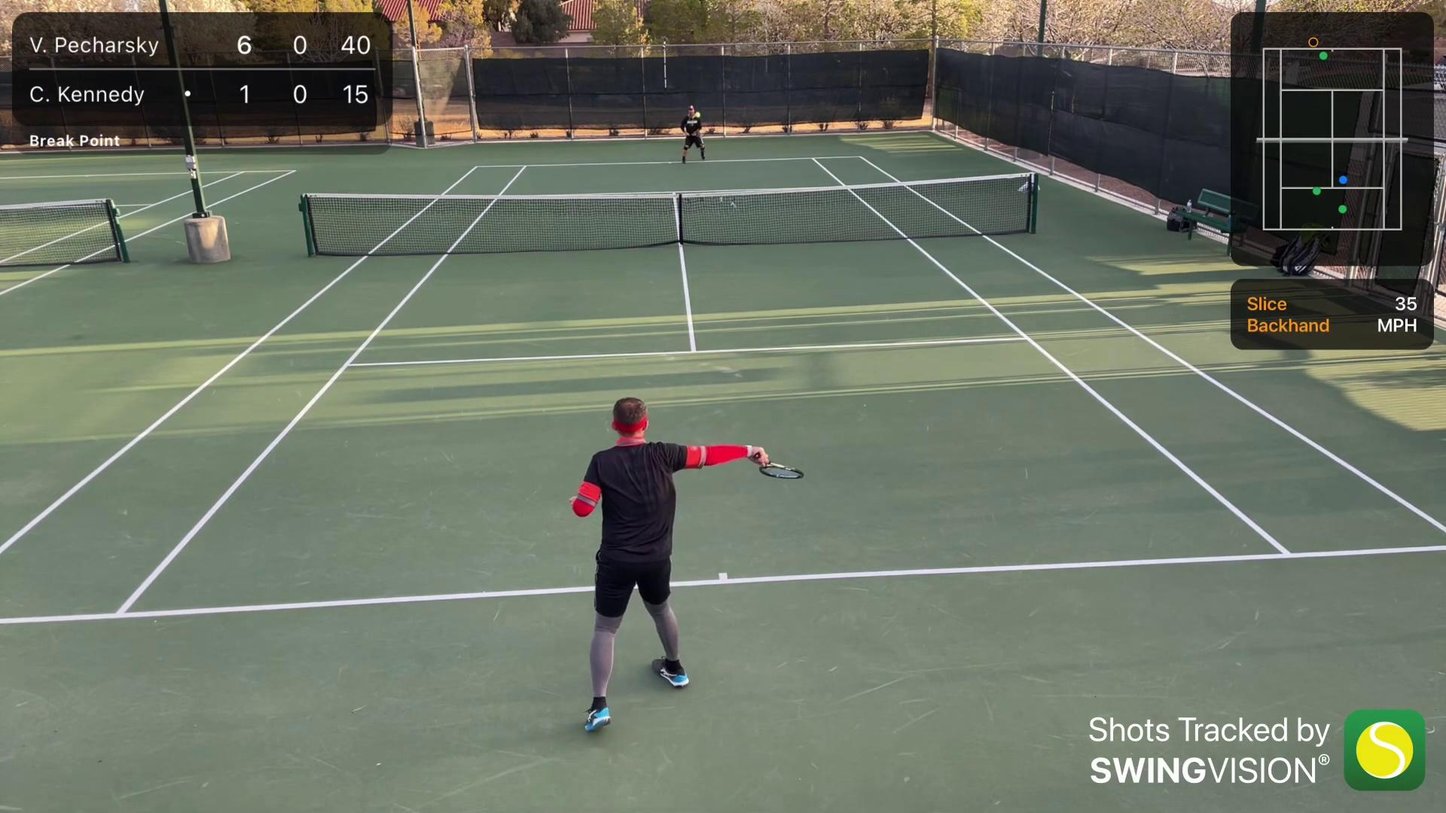ball: (695, 112, 700, 117)
